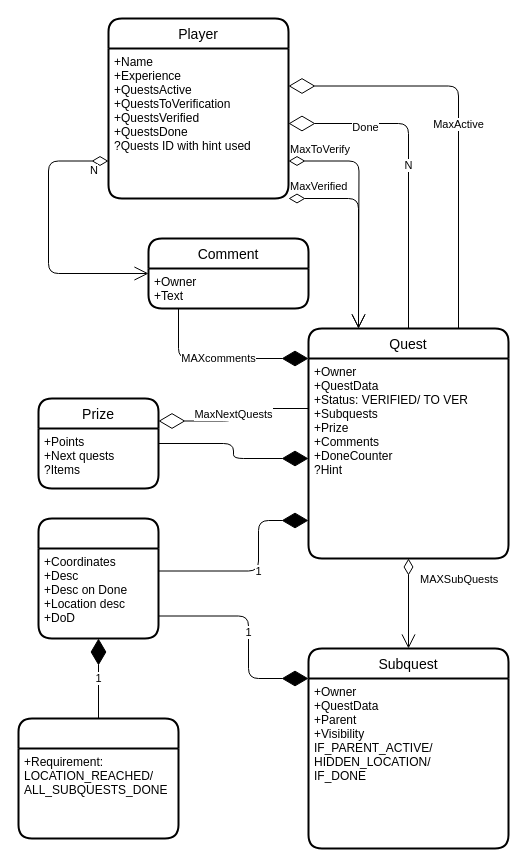
Some shapes in this 526 by 866 pixel diagram are drawn without their labels. Each missing label, with the box of its shape:
Quest's DoD: (17, 717, 179, 839)
QuestData: (37, 517, 159, 639)
